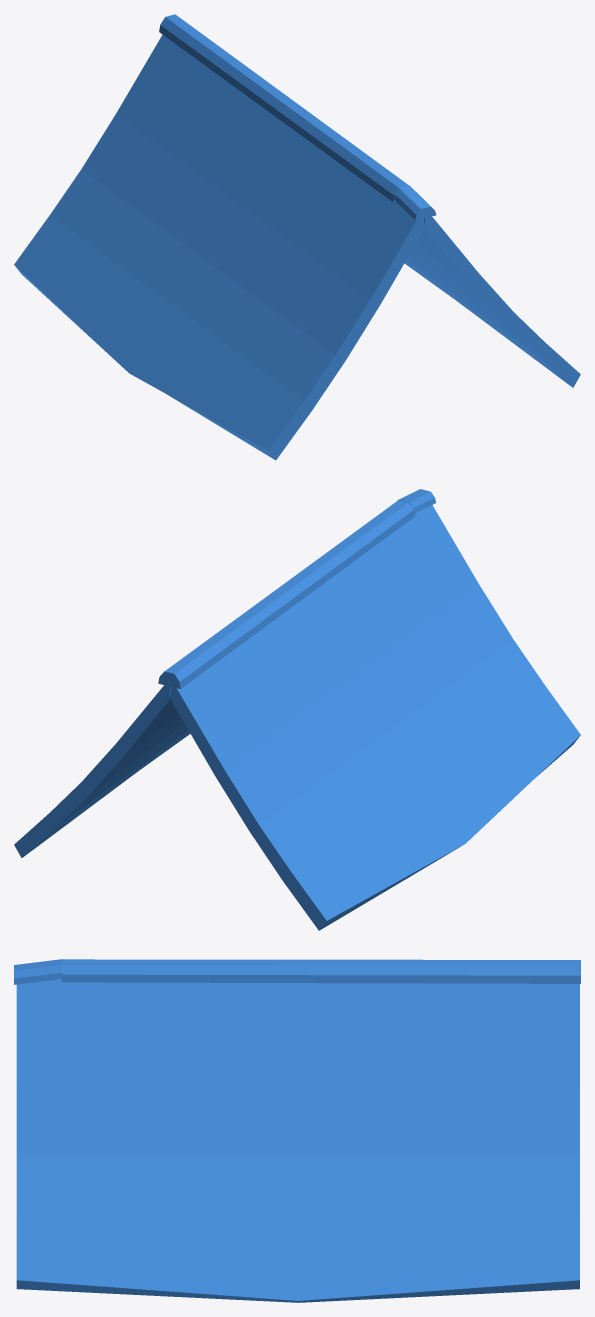
The model's file is Collision_Roof_FlatTiles_8x12.fbx.
The picture shows the model from 3 angles, top to bottom: view 1: azimuth 30°, elevation 25°; view 2: azimuth 150°, elevation 25°; view 3: azimuth 270°, elevation 25°; orthographic projection. The views are drawn at different scales.
Visible parts, largest first — view 1: UCX_Roof_FlatTiles_8x12_01; view 2: UCX_Roof_FlatTiles_8x12_01; view 3: UCX_Roof_FlatTiles_8x12_01.
Boxes of the visible parts, left/top/right/bottom form: UCX_Roof_FlatTiles_8x12_01: left=14, top=14, right=580, bottom=460; UCX_Roof_FlatTiles_8x12_01: left=14, top=489, right=580, bottom=930; UCX_Roof_FlatTiles_8x12_01: left=14, top=959, right=580, bottom=1302.
Bounding box in the file's own units: 1070 × 701 × 1410.
